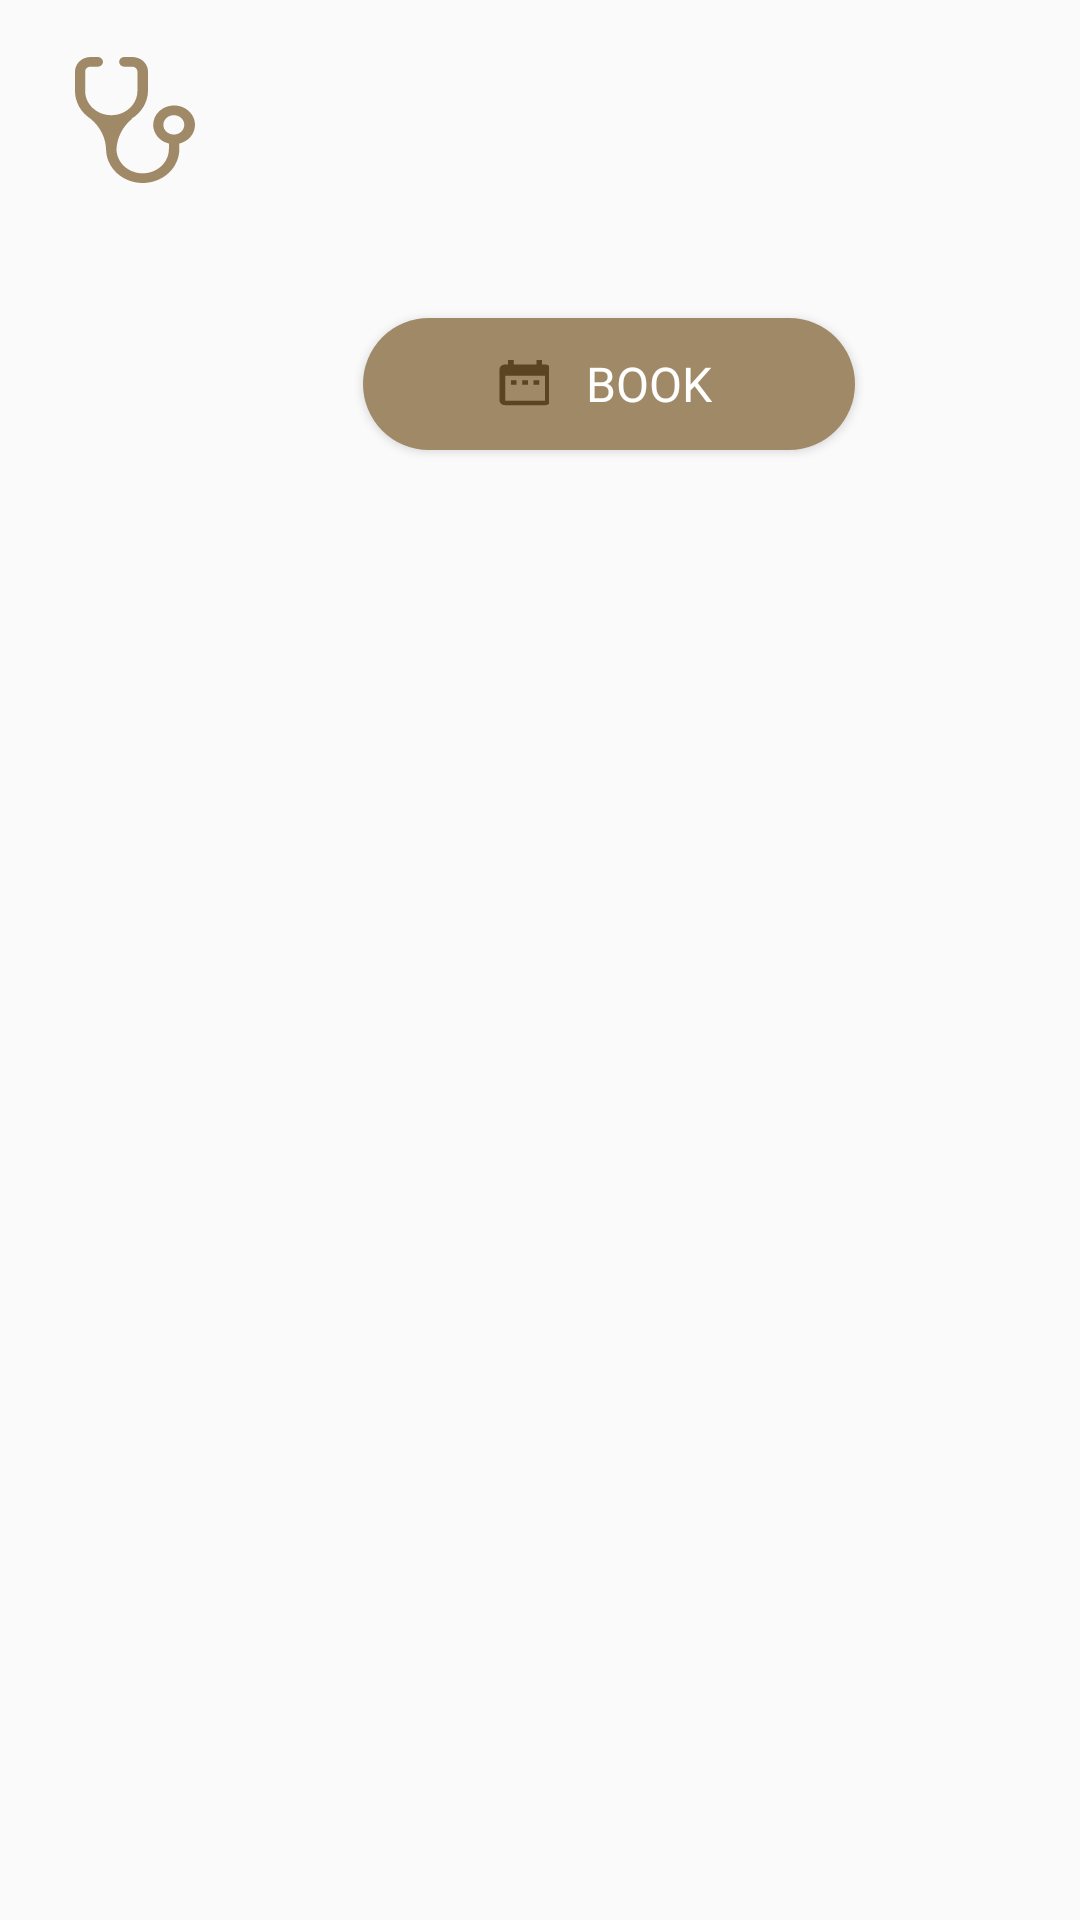

Named icons in this screenshot (1080×1920) and their bounding boxes, box=[x1, y1, x2, y2]:
Doctor list: box=[75, 57, 195, 183]
